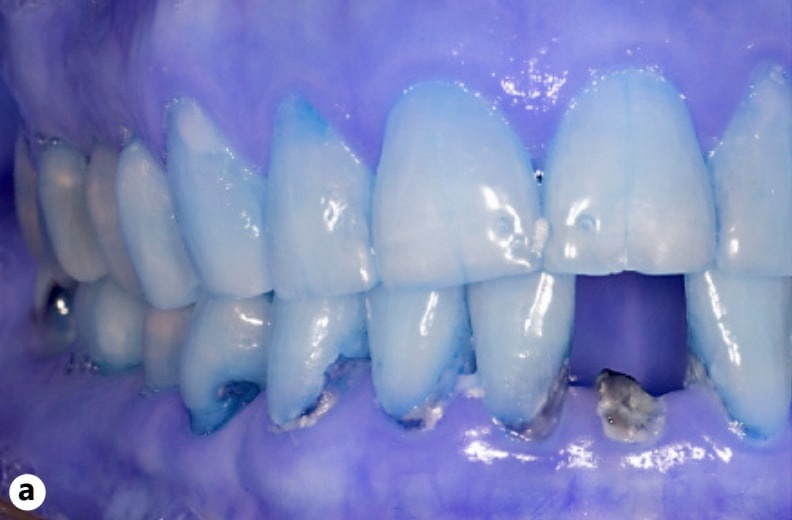karies: (296, 343, 371, 421), (596, 365, 666, 443), (494, 394, 567, 446), (35, 278, 79, 325), (216, 373, 266, 413), (390, 408, 436, 438), (63, 346, 103, 379), (681, 355, 718, 389), (526, 165, 552, 190)
